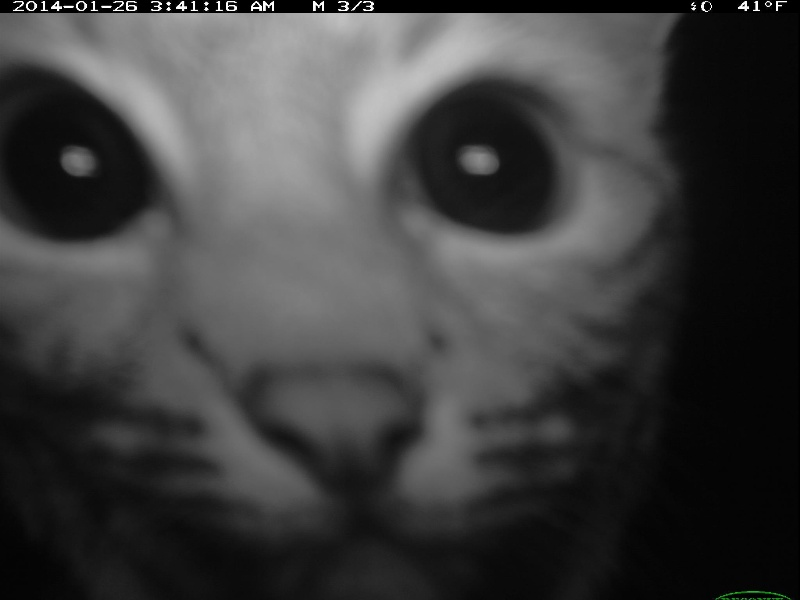cat: (4, 16, 692, 591)
